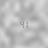four: (19, 20, 23, 28)
one: (24, 20, 28, 28)
